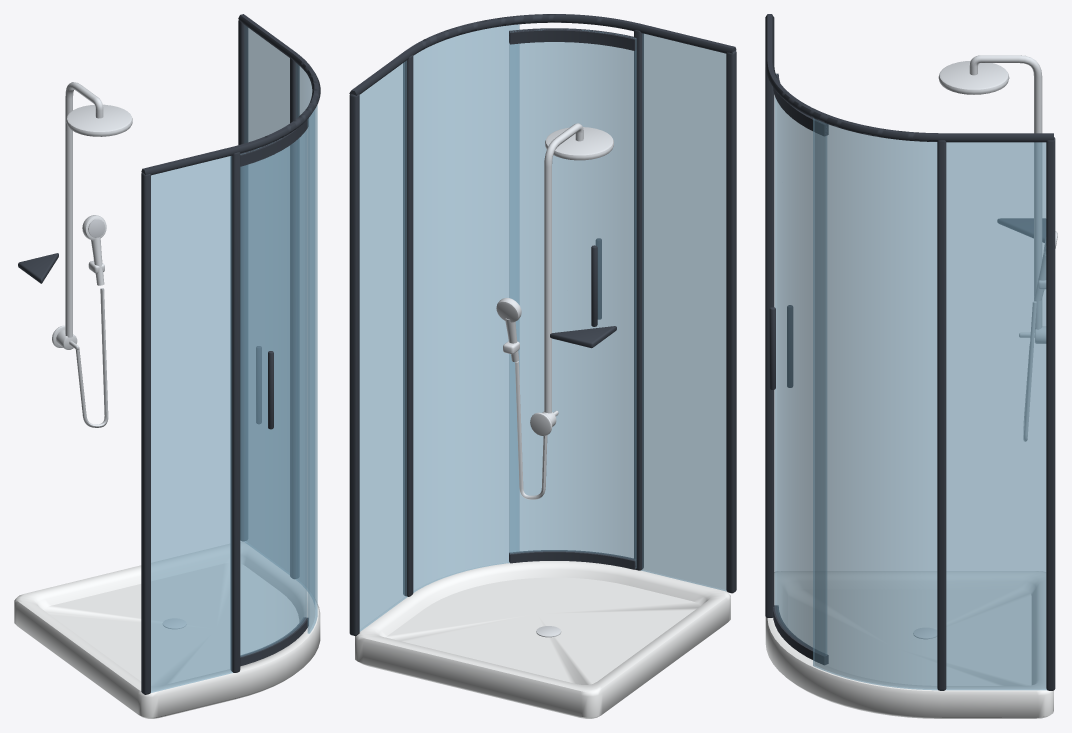
The model's file is box_chuveiro_canto_curvo_grafite.glb.
The picture shows the model from 3 angles, left to right: view 1: azimuth 30°, elevation 25°; view 2: azimuth 150°, elevation 25°; view 3: azimuth 270°, elevation 25°; orthographic projection. The views are drawn at different scales.
Parts seen in each view (by area): view 1: box_chuveiro_canto_curvo_grafite, porta_box; view 2: box_chuveiro_canto_curvo_grafite, porta_box; view 3: box_chuveiro_canto_curvo_grafite, porta_box.
Boxes of the visible parts, x1,y1,x2,y2 form: box_chuveiro_canto_curvo_grafite: (14, 14, 320, 718); porta_box: (240, 118, 308, 666); box_chuveiro_canto_curvo_grafite: (349, 14, 736, 718); porta_box: (509, 28, 636, 569); box_chuveiro_canto_curvo_grafite: (765, 14, 1057, 718); porta_box: (769, 73, 828, 664).
Size of the model in its own units: 0.905 by 2.01 by 0.9123.
2 materials, 1 textured.
